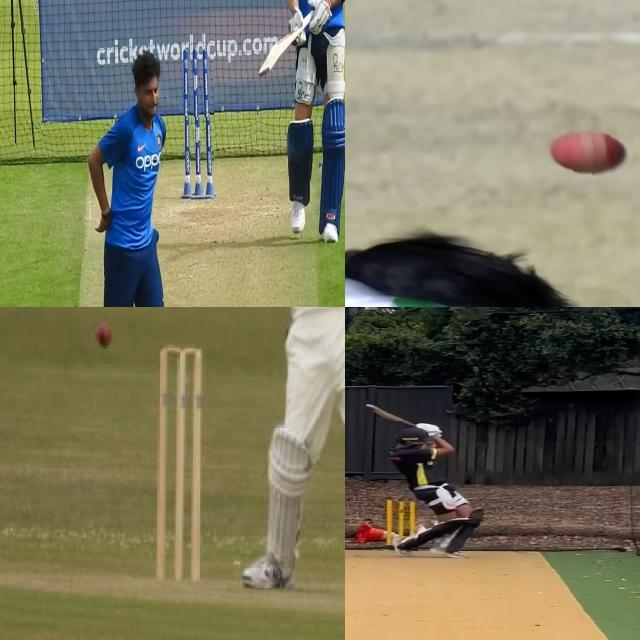Cricket ball: (543, 123, 633, 176), (95, 319, 116, 351)
Stumps: (180, 48, 214, 200), (385, 499, 418, 551)
